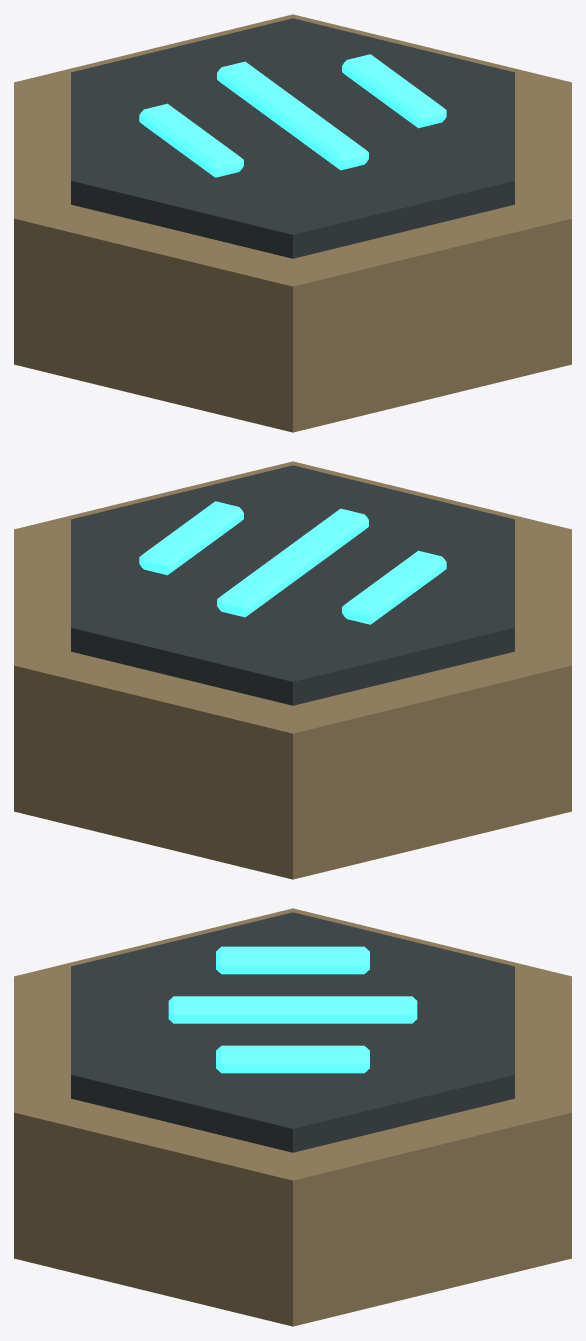
File: token.glb
3 views of the same model, one above another, from view 1: azimuth 30°, elevation 25°; view 2: azimuth 150°, elevation 25°; view 3: azimuth 270°, elevation 25° (orthographic).
Visible parts, largest first — view 1: Token | Old brass inlay, Token | Blackened iron, Token | Cyan optics; view 2: Token | Old brass inlay, Token | Blackened iron, Token | Cyan optics; view 3: Token | Old brass inlay, Token | Blackened iron, Token | Cyan optics.
Boxes of the visible parts, <box> form: Token | Old brass inlay: <box>14,14,571,432</box>; Token | Blackened iron: <box>71,18,514,258</box>; Token | Cyan optics: <box>139,54,446,177</box>; Token | Old brass inlay: <box>14,461,571,879</box>; Token | Blackened iron: <box>71,465,514,705</box>; Token | Cyan optics: <box>139,501,446,624</box>; Token | Old brass inlay: <box>14,908,571,1326</box>; Token | Blackened iron: <box>71,912,514,1152</box>; Token | Cyan optics: <box>168,946,417,1073</box>.
Size of the model in its own units: 0.44 by 0.142 by 0.3811.
